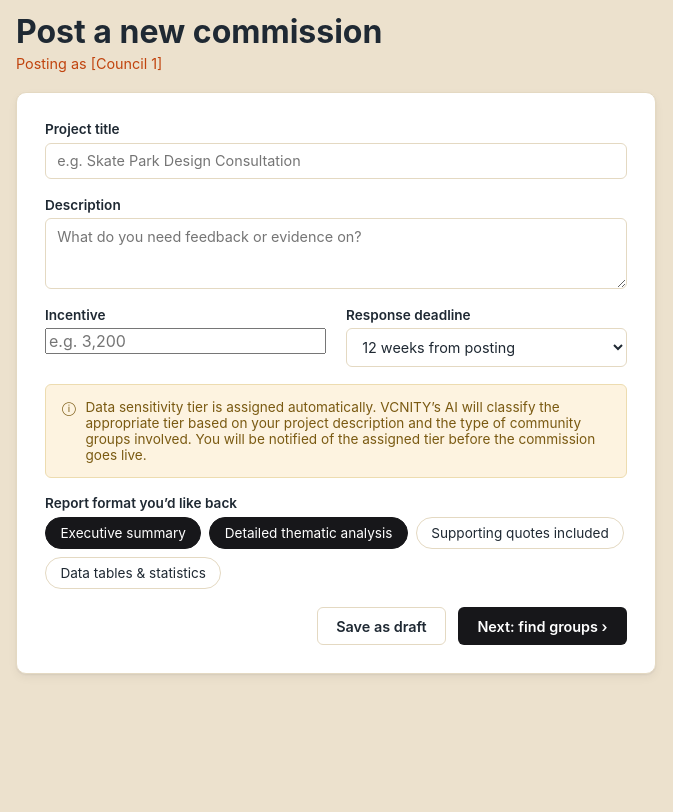
Test: PostCommissionPage — step 2 (find groups questionnaire) › returns to step 1 with the entered values kept via the back link
In the field labelled "Project title": (336, 161) [45,143,627,179], type "Community Garden Feedback"
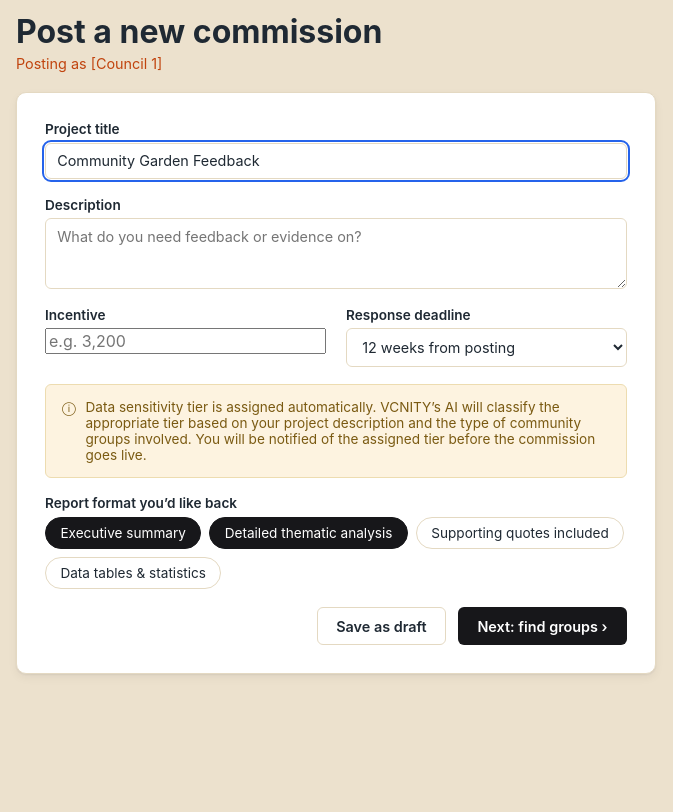
In the number field labelled "Incentive": (186, 341) [45,328,326,354], type "1500"
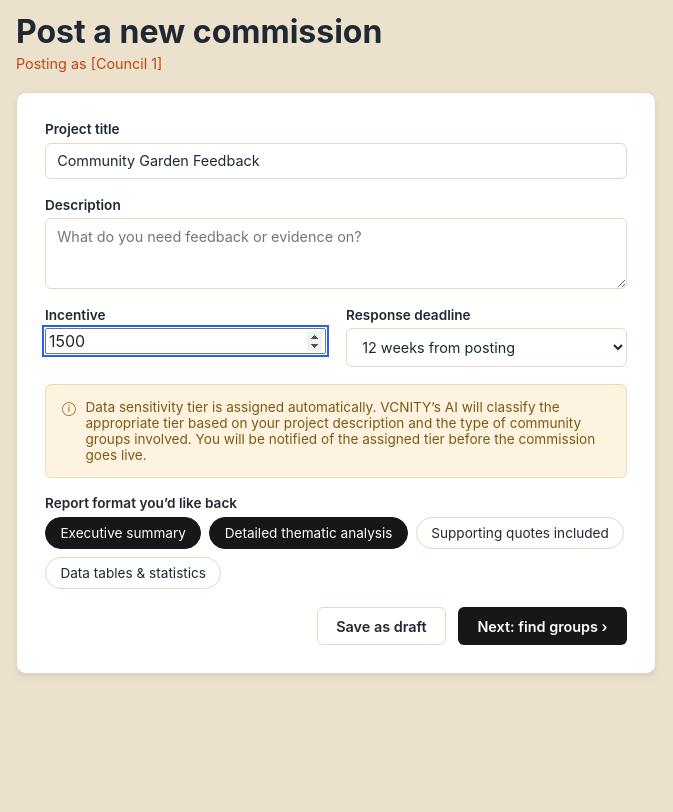
Click the button "Next: find groups ›": (542, 626) [458,607,627,645]
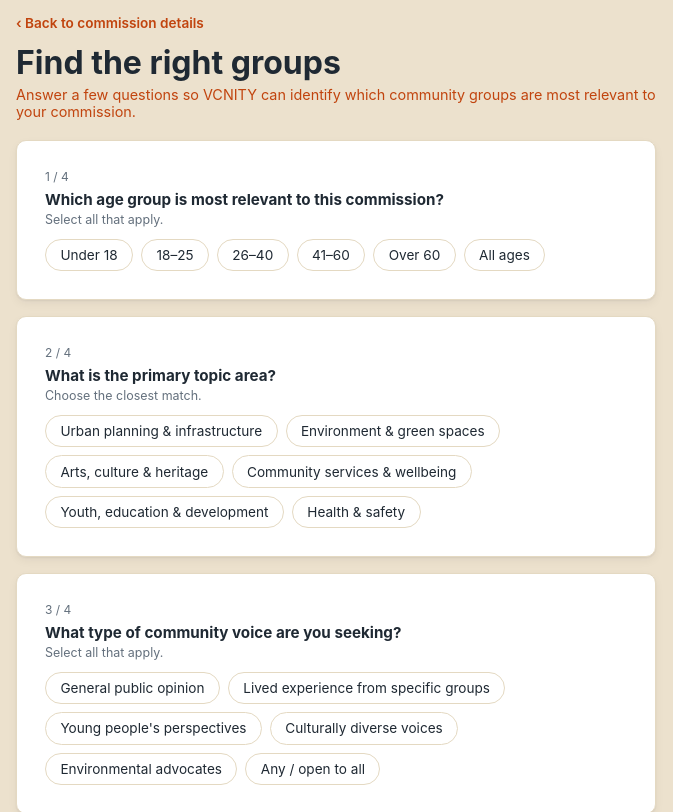
Now the heading "Find the right groups" is shown, box [16,43,341,82]
Click the button "‹ Back to commission details": (110, 23) [16,15,204,31]
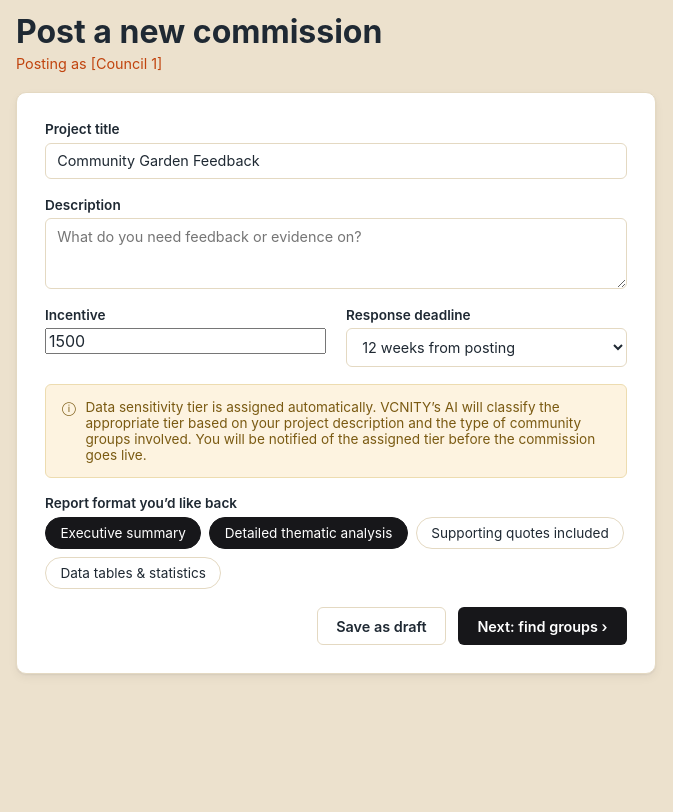
Now the field labelled "Project title" holds "Community Garden Feedback", box [45,143,627,179]
